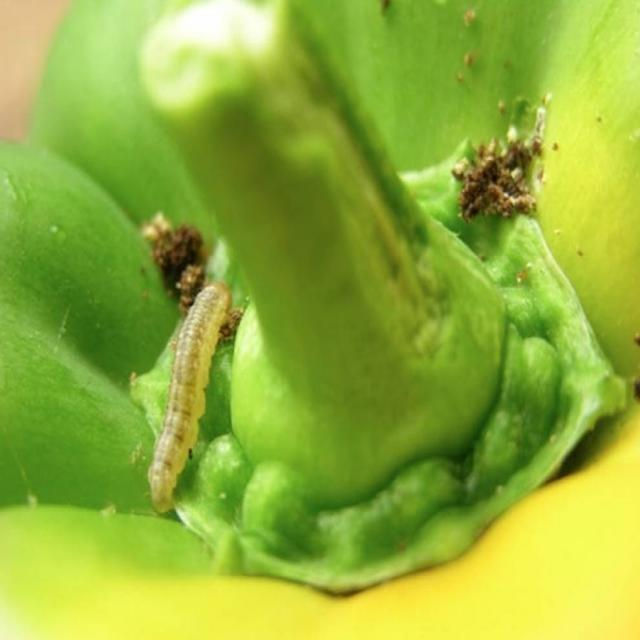cornborer-Larva-: (148, 271, 234, 517)
